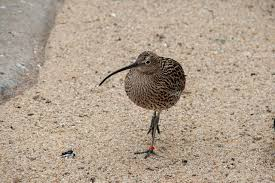Walking: (93, 39, 211, 164)
